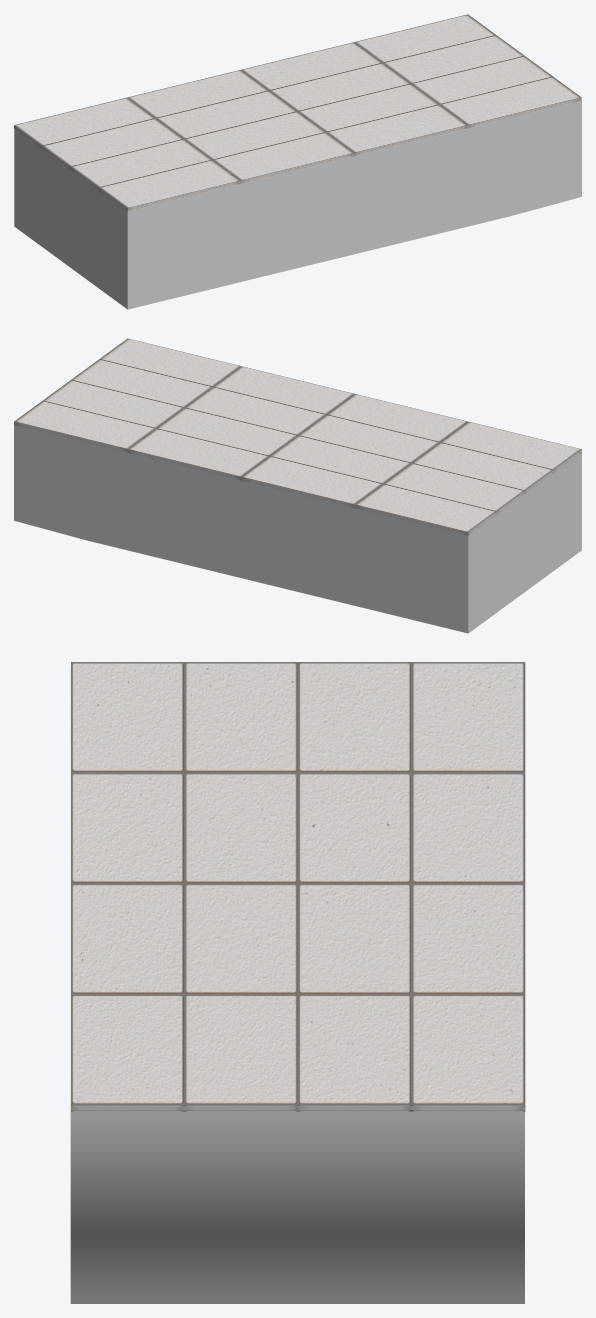
Rendered from AulaTerminada (1).fbx.
The picture shows the model from 3 angles, top to bottom: view 1: azimuth 30°, elevation 25°; view 2: azimuth 150°, elevation 25°; view 3: azimuth 270°, elevation 25°; orthographic projection. The views are drawn at different scales.
Parts seen in each view (by area): view 1: Cube.001, Cube; view 2: Cube.001, Cube; view 3: Cube, Cube.001.
Part boxes in pixels (left/top/right/bottom): Cube.001: left=14, top=100, right=581, bottom=309; Cube: left=14, top=14, right=581, bottom=211; Cube.001: left=14, top=425, right=581, bottom=633; Cube: left=14, top=338, right=581, bottom=535; Cube: left=71, top=662, right=525, bottom=1111; Cube.001: left=70, top=668, right=524, bottom=1303.
Bounding box in the file's own units: 2745 × 585 × 1190.
